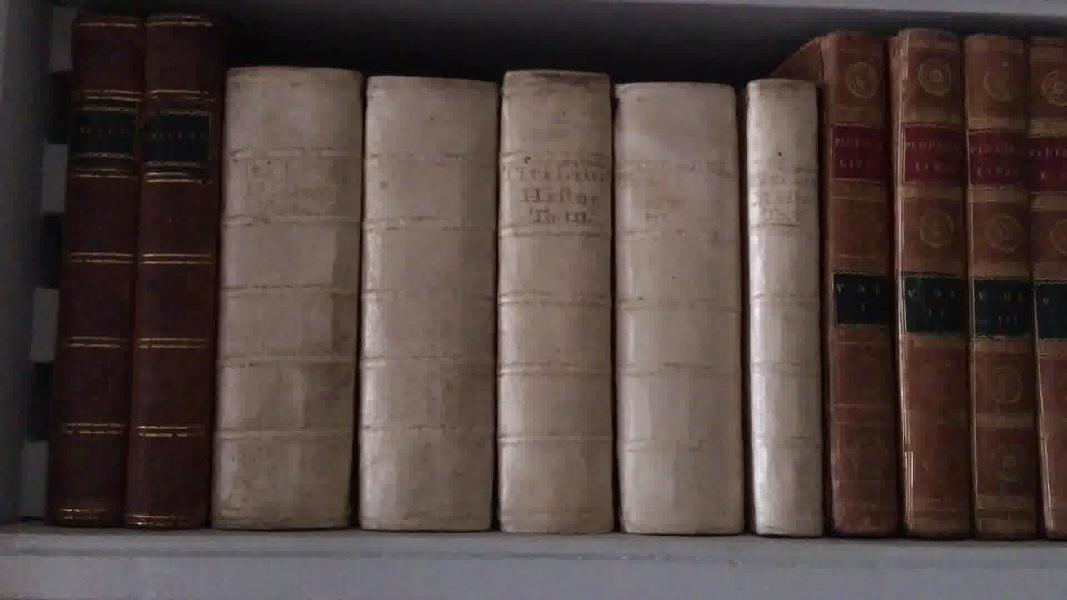Kk4-1_2: (42, 1, 224, 548)
Kk4-3_7: (213, 44, 838, 550)
Kk4-8_13: (816, 20, 1067, 546)
